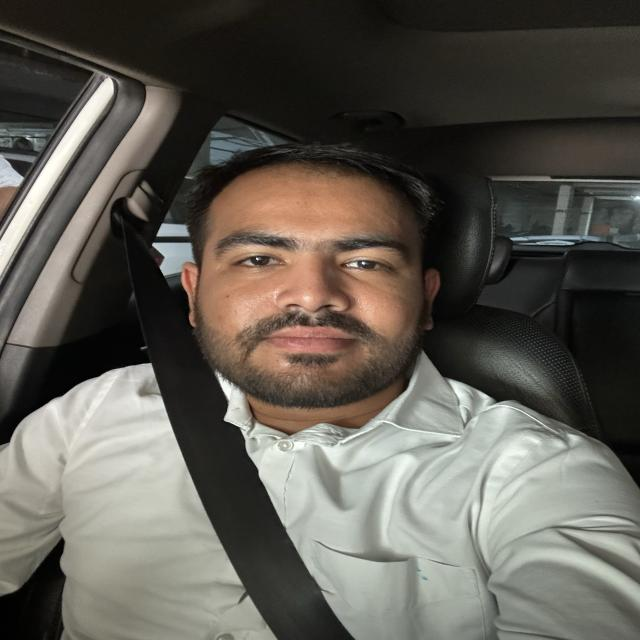seatbelt: (74, 176, 364, 640)
